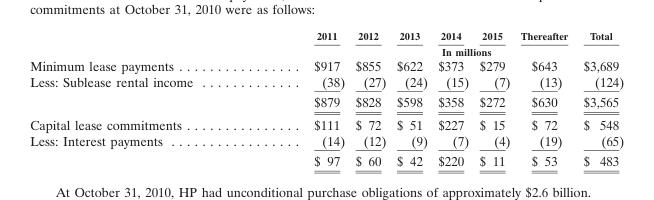table: (29, 29, 623, 168)
table column: (29, 29, 252, 168), (252, 29, 349, 168), (514, 29, 575, 168), (575, 29, 623, 168), (390, 29, 432, 168), (349, 29, 390, 168), (432, 29, 473, 168), (473, 29, 514, 168)
table column header: (29, 29, 623, 57)
table row: (29, 91, 623, 113), (29, 113, 623, 132), (29, 73, 623, 91), (29, 132, 623, 150), (29, 150, 623, 168), (29, 57, 623, 73), (29, 29, 623, 43), (29, 43, 623, 57)
table spanning cell: (252, 43, 623, 57)
